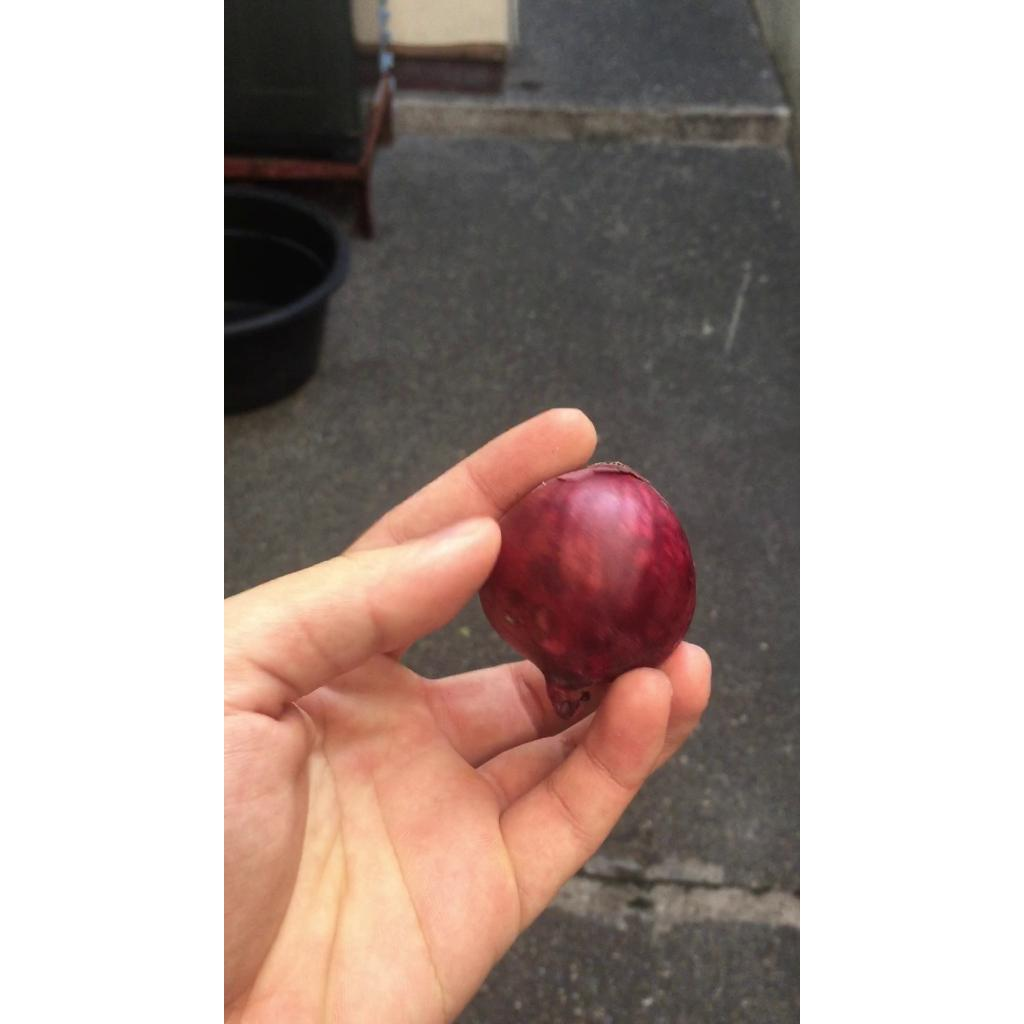Onion: (479, 463, 696, 696)
